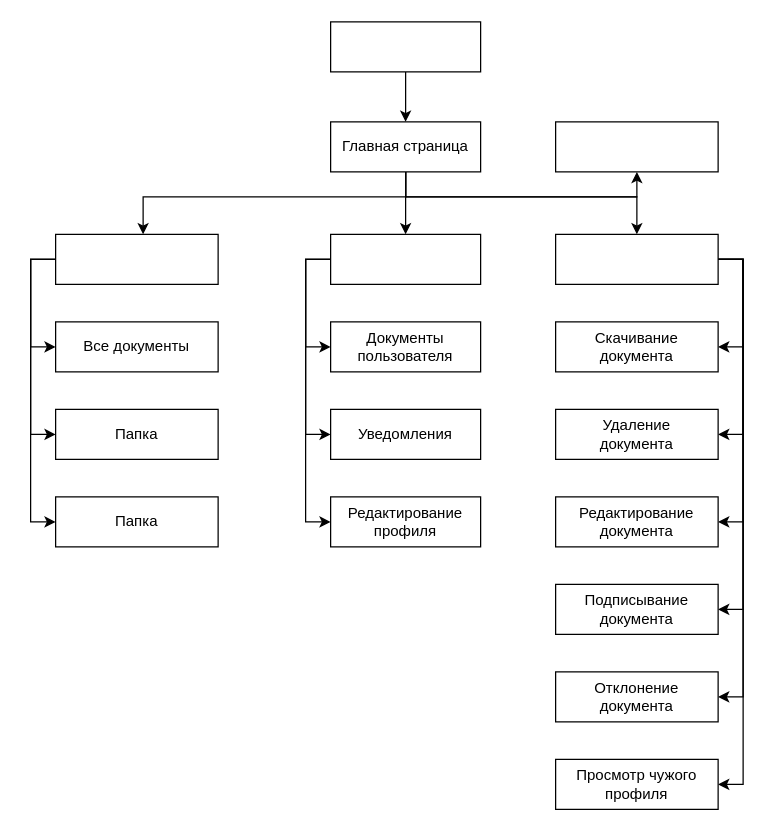
This 775x831 diagram has some shape labels left out. The shapes that lost their labels are listed below. From the top down, each one's centre as x and y in pixels, then its label:
point (405, 46): Аутентификация
point (636, 146): Создание документа
point (136, 258): Каталог документов
point (405, 258): Профиль
point (636, 258): Просмотр документа
